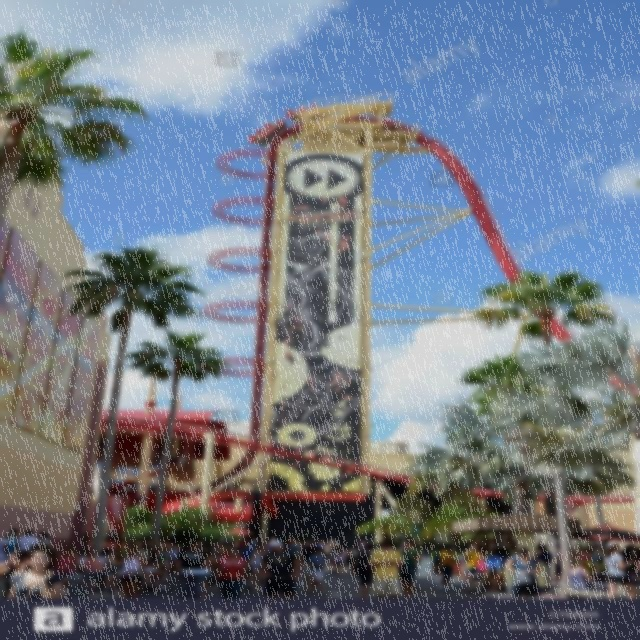pessoa: (5, 549, 66, 599), (258, 540, 302, 598), (173, 538, 210, 600), (502, 546, 544, 600), (368, 537, 404, 599), (602, 543, 637, 599), (214, 547, 251, 599), (76, 546, 116, 594), (0, 548, 32, 600), (395, 541, 423, 600), (119, 542, 147, 599), (297, 538, 325, 594), (432, 542, 460, 592), (96, 546, 125, 592), (352, 542, 375, 598), (568, 560, 606, 592), (284, 536, 308, 586), (234, 539, 256, 591), (197, 546, 218, 600), (306, 546, 328, 596), (246, 544, 268, 594), (464, 545, 486, 594), (490, 548, 511, 592), (52, 545, 80, 578), (145, 559, 173, 591), (484, 548, 504, 592), (534, 542, 554, 582), (12, 528, 42, 554), (148, 544, 172, 576), (463, 545, 480, 590), (2, 528, 20, 562), (347, 542, 364, 577), (332, 544, 349, 578), (621, 544, 638, 576), (168, 542, 186, 572), (352, 545, 368, 578), (570, 553, 600, 570), (552, 542, 562, 582), (324, 539, 336, 571), (328, 543, 341, 572), (328, 544, 338, 574), (212, 542, 226, 560), (580, 551, 594, 567), (36, 531, 52, 545), (319, 539, 331, 557), (596, 556, 608, 573), (236, 536, 252, 548), (344, 550, 352, 572), (592, 548, 602, 564), (632, 546, 640, 562), (421, 546, 429, 560), (460, 564, 465, 582), (253, 536, 259, 548), (144, 560, 152, 568), (358, 541, 367, 548), (161, 544, 171, 549), (226, 544, 233, 551), (268, 536, 276, 542)
